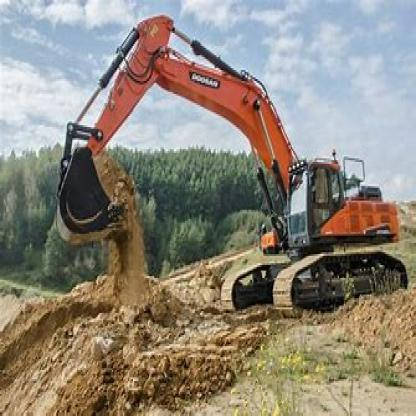excavator: (47, 7, 415, 335)
